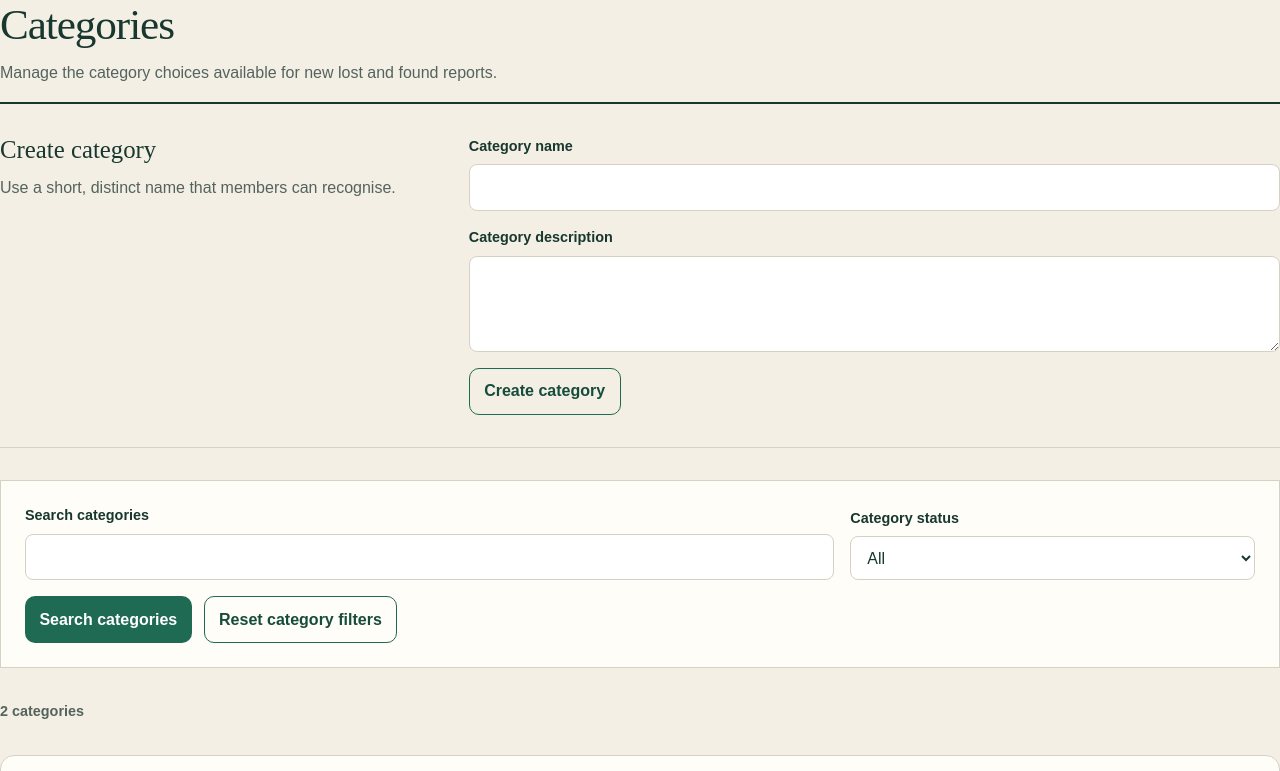
Test: blocks duplicate create submissions and retains safe form errors
Type "Phones" into the field labelled "Category name". click: (874, 188)
box: left=469, top=164, right=1279, bottom=211
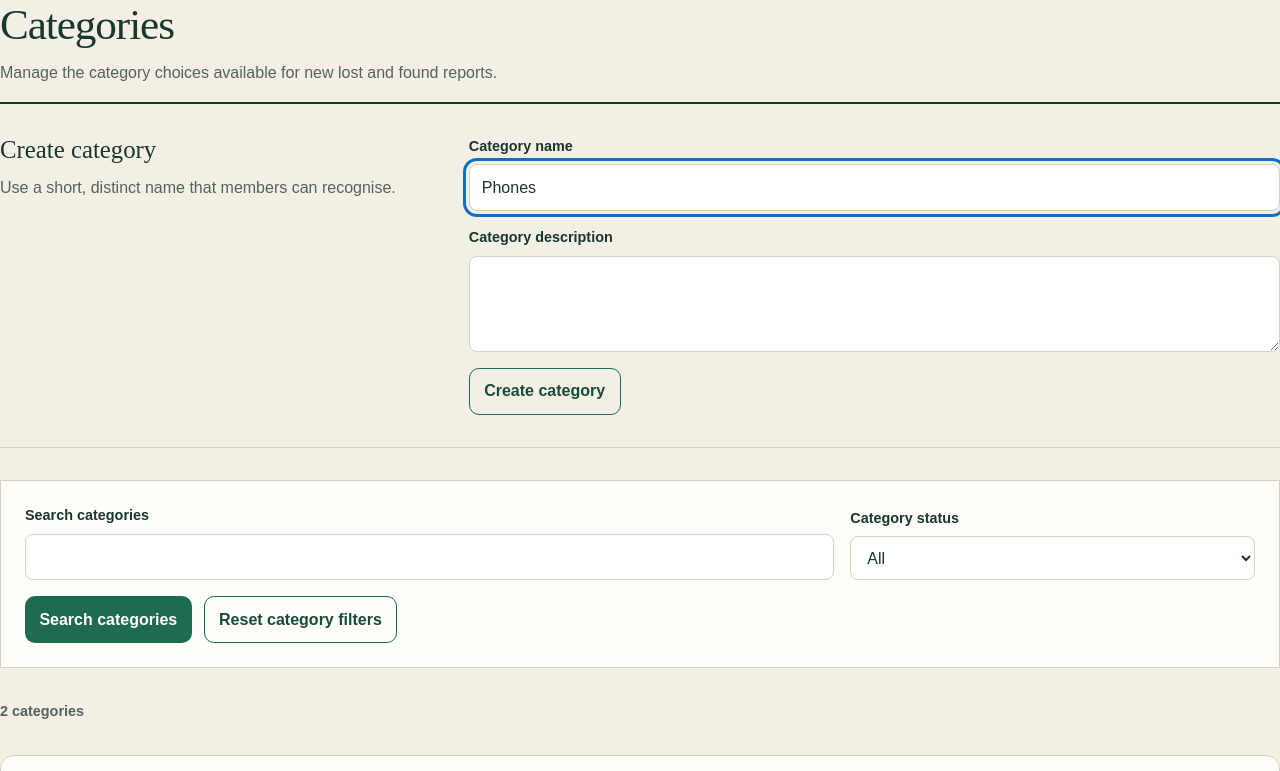
Click the button "Create category". click: (545, 391)
box: left=469, top=368, right=620, bottom=415
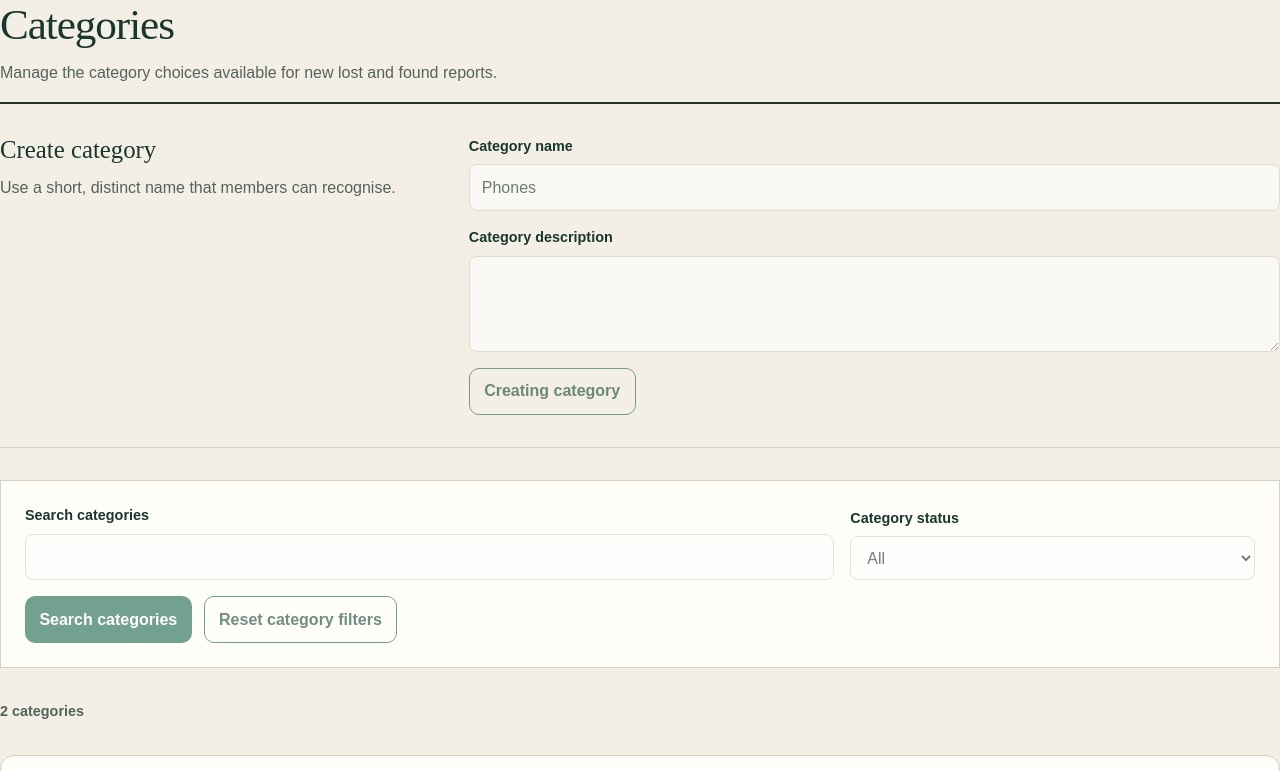
Expected: the button "Creating category" is disabled
Click the button "Creating category". click: (552, 391)
box: left=469, top=368, right=636, bottom=415
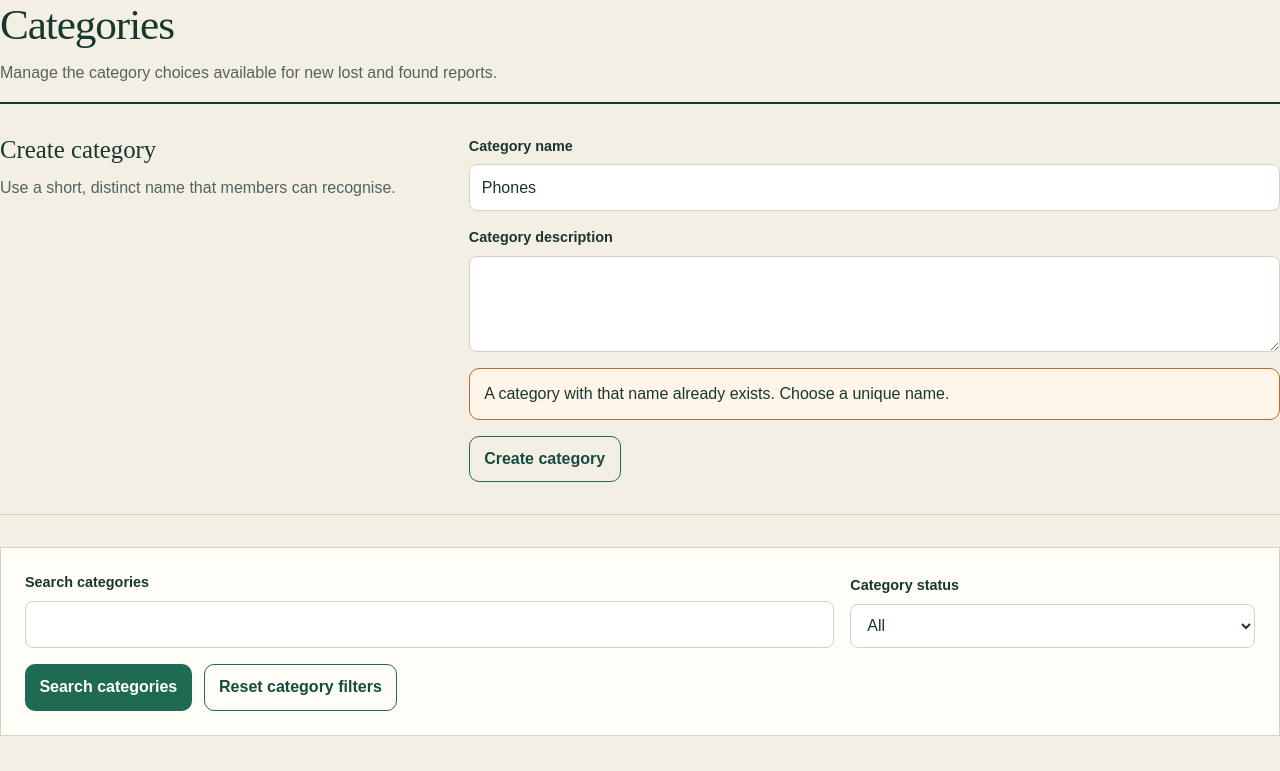
Expected: the message "A category with that name already exists. Choose a unique name." is shown, left=469, top=368, right=1279, bottom=420
Click the button "Create category". click: (545, 459)
box: left=469, top=436, right=620, bottom=482
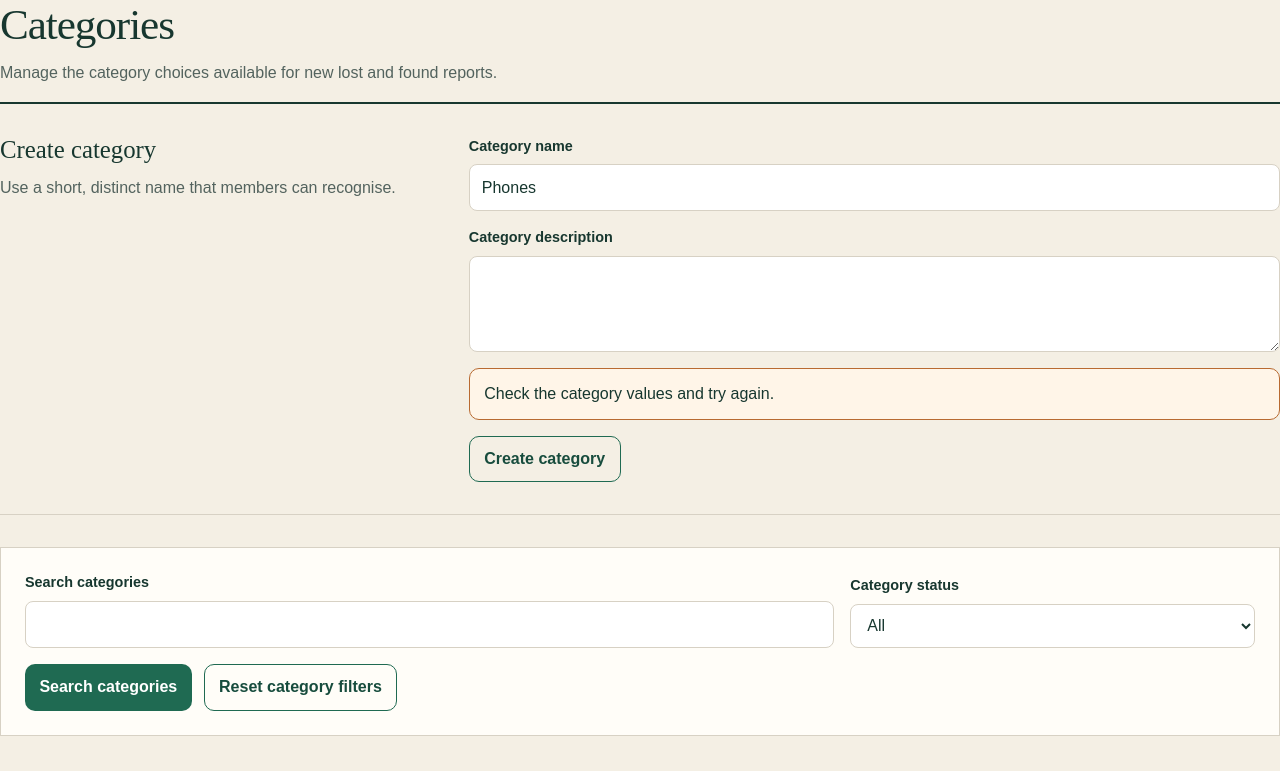
Expected: the message "Check the category values and try again." is shown, left=469, top=368, right=1279, bottom=420
